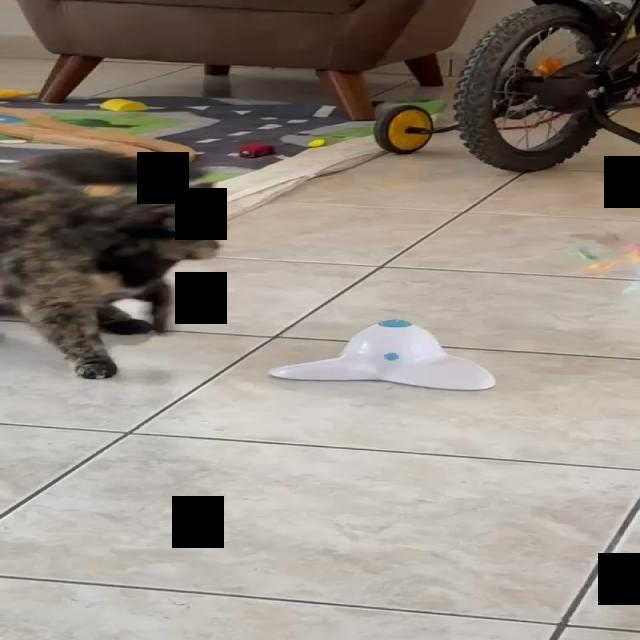authorized: (0, 147, 227, 380)
